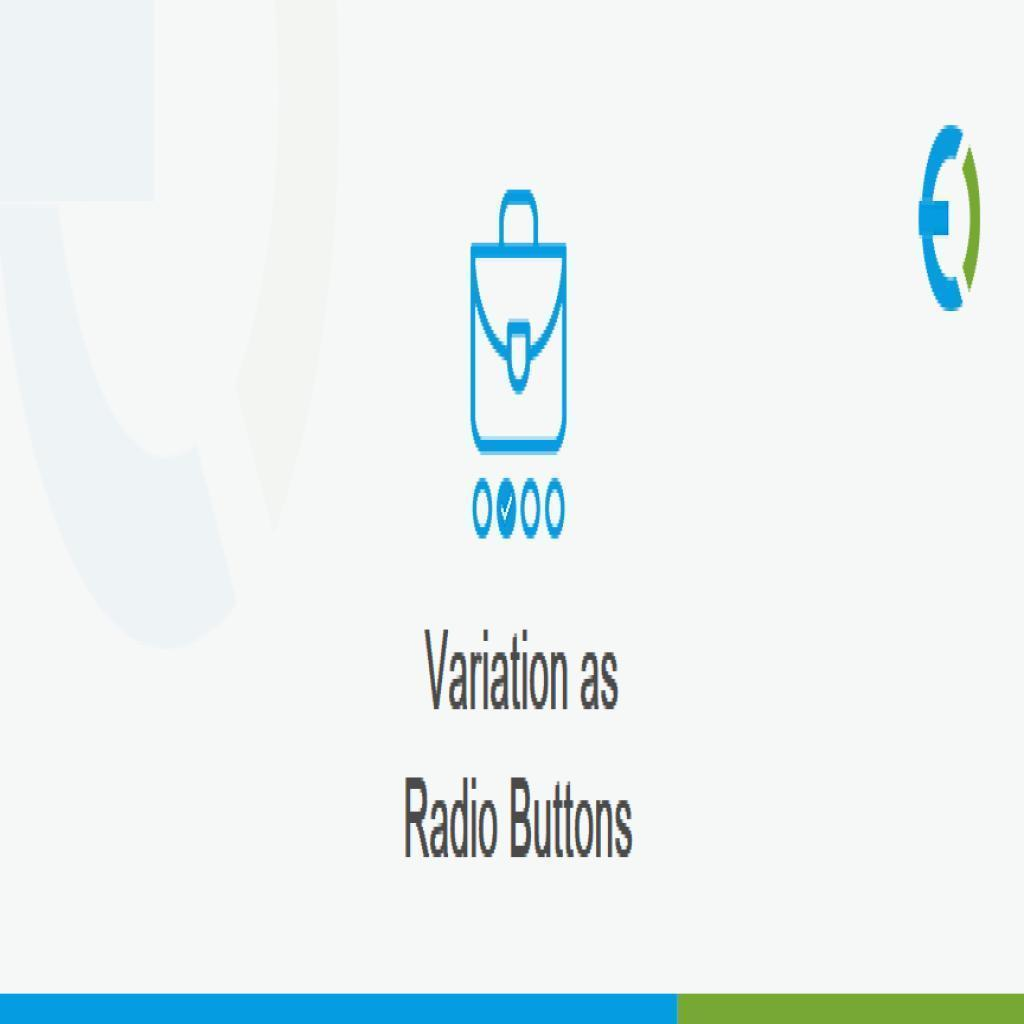label: (390, 762, 649, 870), (413, 621, 628, 717)
radio: (546, 479, 567, 539), (496, 478, 517, 538), (471, 478, 491, 540), (521, 479, 540, 538)
